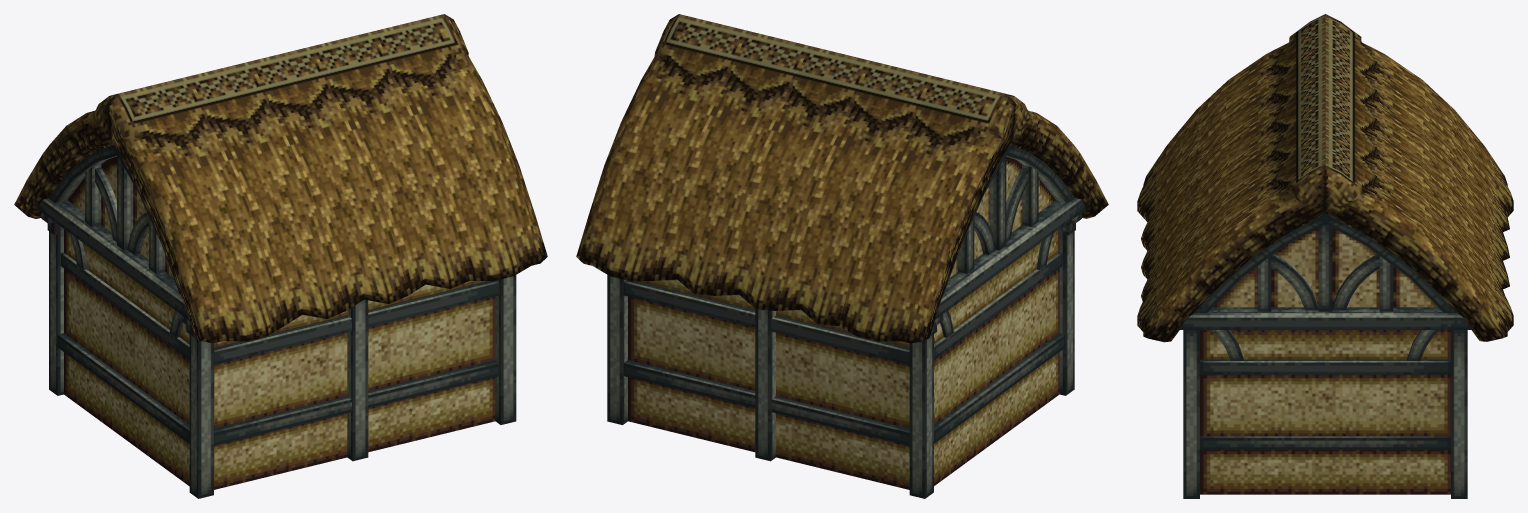
The model's file is EnvBdgMD_Forest_A_Outdoor_House_A.fbx.
The picture shows the model from 3 angles, left to right: view 1: azimuth 30°, elevation 25°; view 2: azimuth 150°, elevation 25°; view 3: azimuth 270°, elevation 25°; orthographic projection. The views are drawn at different scales.
Visible parts, largest first — view 1: EnvBdgMD_Forest_A_Outdoor_House_A; view 2: EnvBdgMD_Forest_A_Outdoor_House_A; view 3: EnvBdgMD_Forest_A_Outdoor_House_A.
Part boxes in pixels (bbox=[...]): EnvBdgMD_Forest_A_Outdoor_House_A: bbox=[14, 14, 547, 498]; EnvBdgMD_Forest_A_Outdoor_House_A: bbox=[576, 14, 1108, 498]; EnvBdgMD_Forest_A_Outdoor_House_A: bbox=[1137, 14, 1513, 498].
Bounding box in the file's own units: 563 × 545 × 555.
